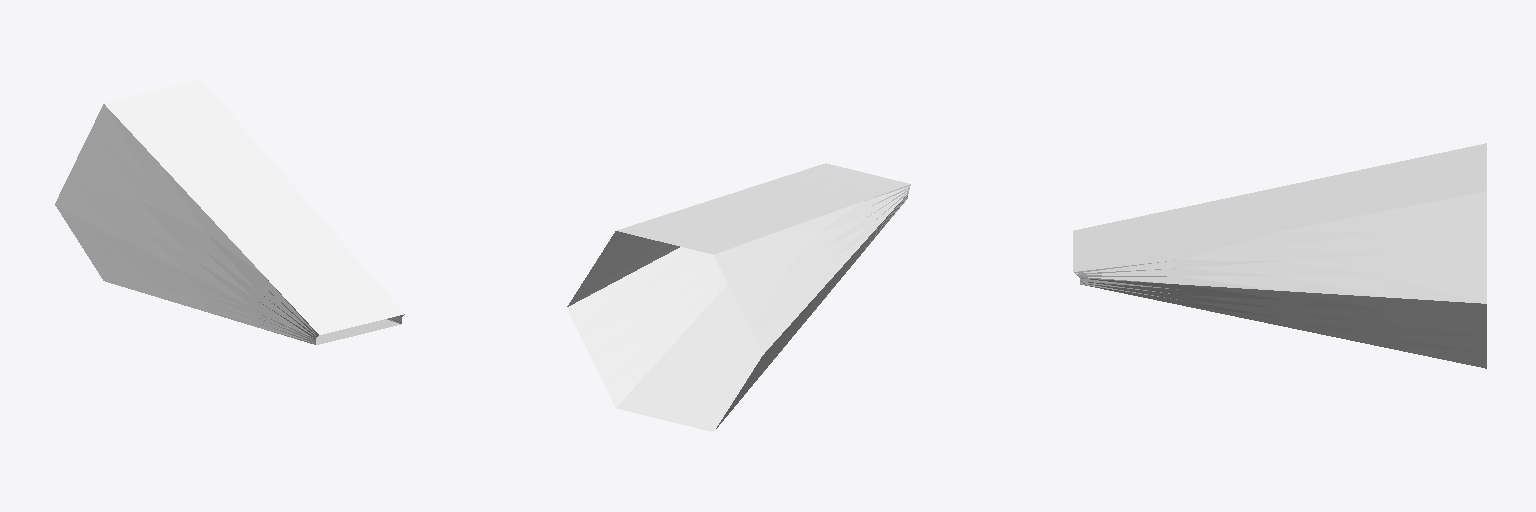
File: LightShape.obj
3 views of the same model, side by side, from view 1: azimuth 30°, elevation 25°; view 2: azimuth 150°, elevation 25°; view 3: azimuth 270°, elevation 25° (orthographic).
Visible parts, largest first — view 1: LightShape; view 2: LightShape; view 3: LightShape.
Part boxes in pixels (x1,y1,x2,y2): LightShape: (55, 80, 404, 344); LightShape: (567, 163, 910, 431); LightShape: (1073, 143, 1486, 368).
Size of the model in its own units: 3.76 by 3.25 by 6.86.